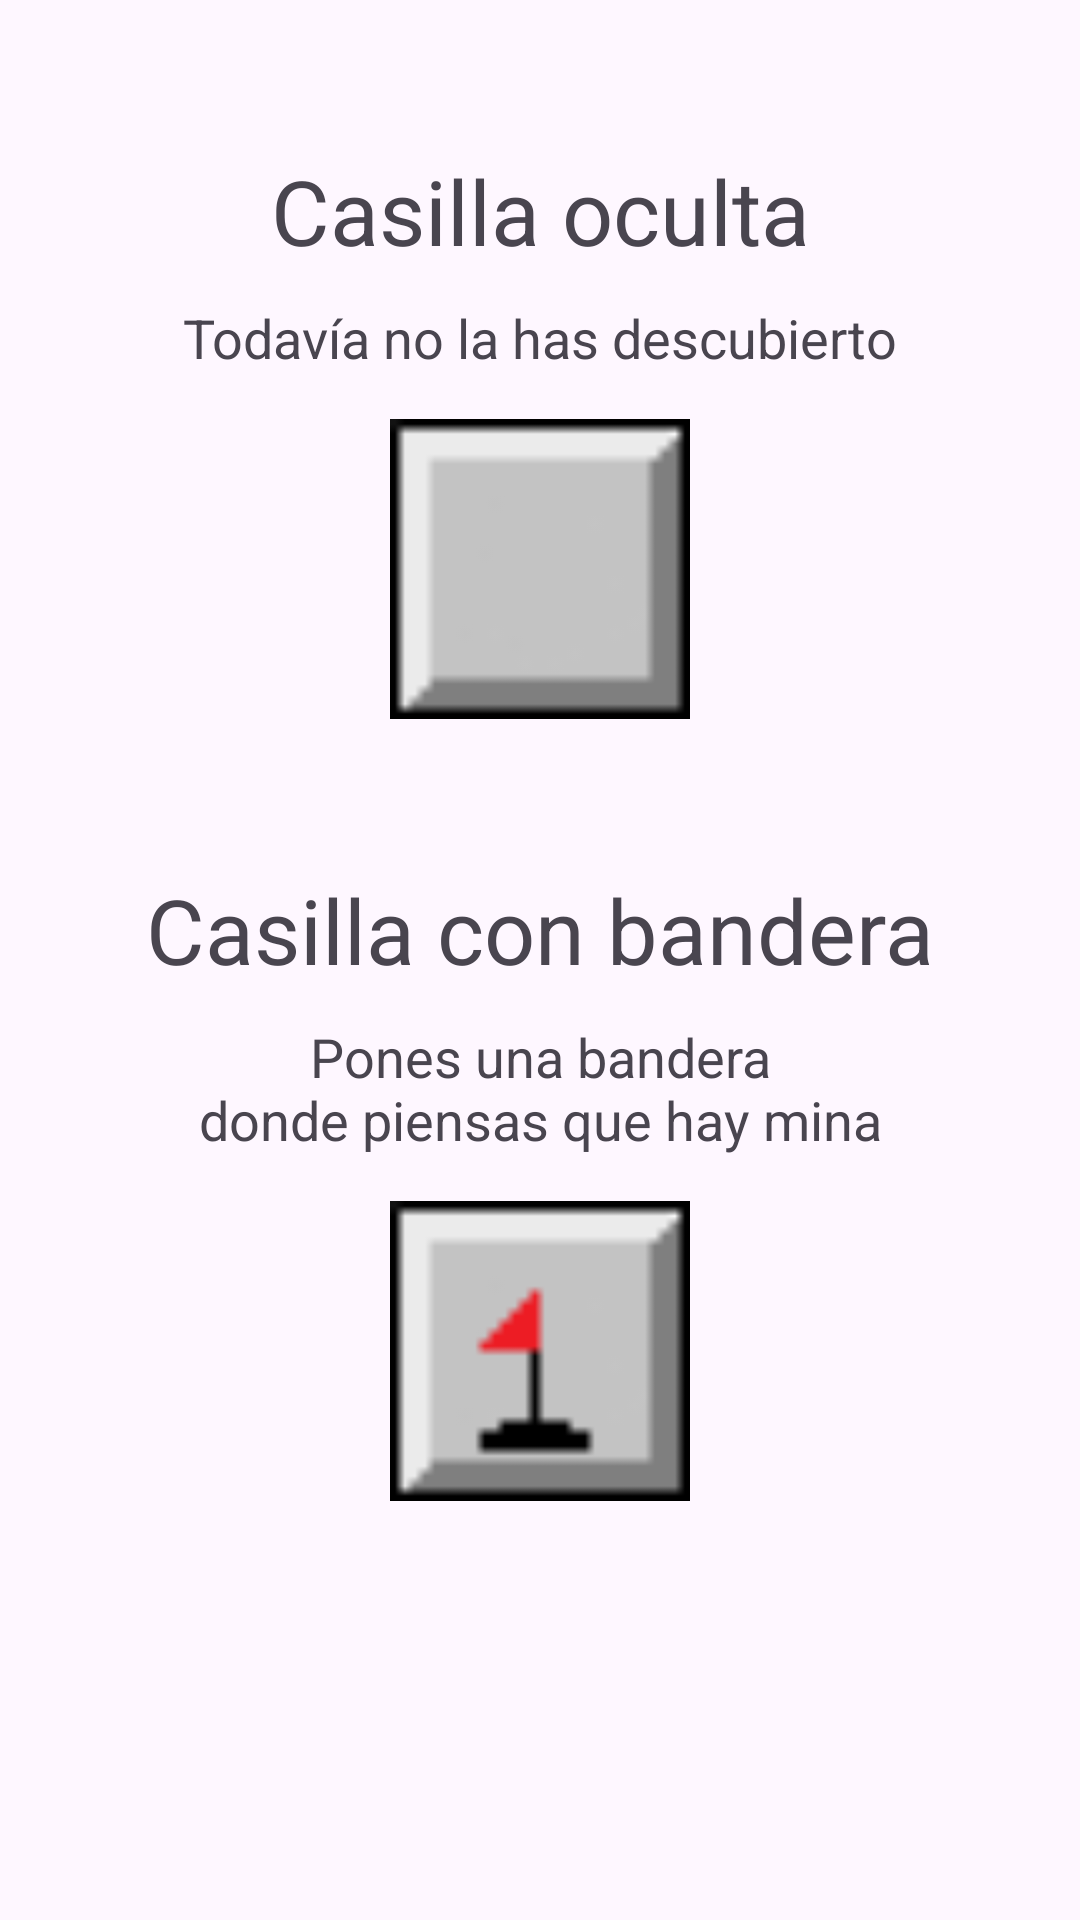

Named icons in this screenshot (1080 × 1920) and their bounding boxes, bbox=[x1, y1, x2, y2]:
Casilla con bandera: bbox=[390, 1201, 690, 1501]
